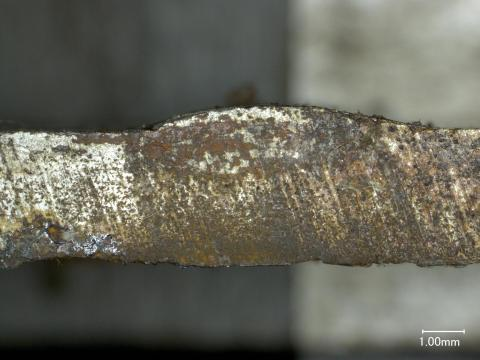test: (153, 105, 418, 128)
